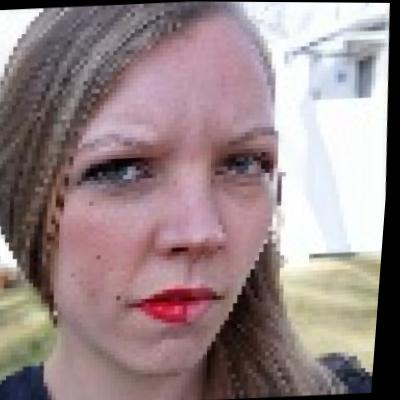angry: (40, 20, 300, 368)
